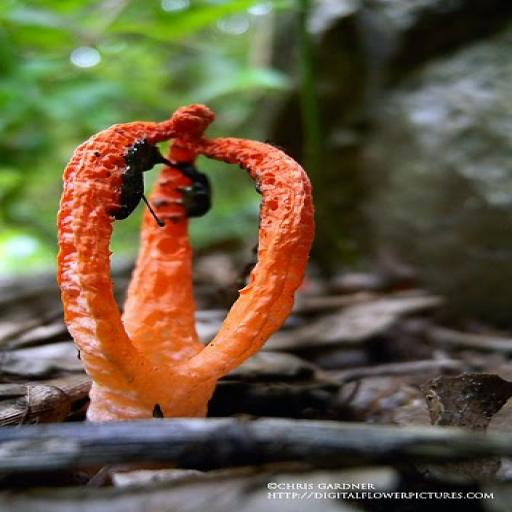Red Cage Fungus: (57, 108, 320, 423)
